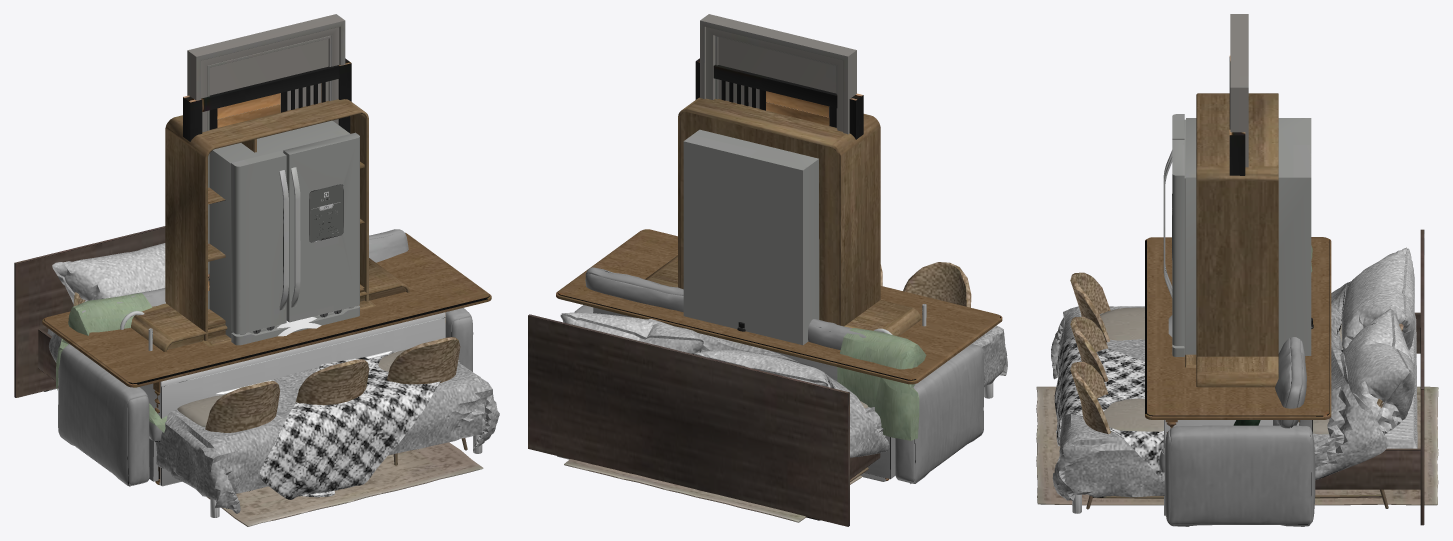
Rendered from furniture.glb.
The picture shows the model from 3 angles, left to right: view 1: azimuth 30°, elevation 25°; view 2: azimuth 150°, elevation 25°; view 3: azimuth 270°, elevation 25°; orthographic projection. The views are drawn at different scales.
Visible parts, largest first — view 1: bed, fridge, dining, sofa, bookshelf, doorint, tubalcove, rug, doorfront, dresser; view 2: bed, fridge, sofa, bookshelf, dining, doorint, doorfront, dresser, rug; view 3: bed, dining, bookshelf, sofa, fridge, rug, dresser, doorint, doorfront, tubalcove.
Boxes of the visible parts, x1=… form: bed: x1=14, y1=226, x2=499, y2=517; fridge: x1=209, y1=120, x2=359, y2=345; dining: x1=42, y1=232, x2=491, y2=484; sofa: x1=56, y1=229, x2=473, y2=486; bookshelf: x1=165, y1=99, x2=368, y2=340; doorint: x1=187, y1=14, x2=345, y2=309; tubalcove: x1=120, y1=311, x2=445, y2=486; rug: x1=58, y1=388, x2=483, y2=526; doorfront: x1=183, y1=58, x2=351, y2=290; dresser: x1=131, y1=258, x2=409, y2=351; bed: x1=528, y1=312, x2=1007, y2=526; fridge: x1=683, y1=129, x2=819, y2=345; sofa: x1=574, y1=267, x2=983, y2=483; bookshelf: x1=678, y1=97, x2=880, y2=326; dining: x1=556, y1=229, x2=1002, y2=482; doorint: x1=700, y1=14, x2=856, y2=134; doorfront: x1=695, y1=58, x2=863, y2=139; dresser: x1=645, y1=255, x2=921, y2=336; rug: x1=564, y1=459, x2=862, y2=522; bed: x1=1051, y1=229, x2=1424, y2=525; dining: x1=1070, y1=237, x2=1403, y2=509; bookshelf: x1=1196, y1=93, x2=1278, y2=356; sofa: x1=1159, y1=245, x2=1315, y2=526; fridge: x1=1163, y1=114, x2=1311, y2=356; rug: x1=1036, y1=386, x2=1438, y2=505; dresser: x1=1196, y1=356, x2=1278, y2=387; doorint: x1=1230, y1=14, x2=1248, y2=167; doorfront: x1=1229, y1=56, x2=1245, y2=175; tubalcove: x1=1164, y1=420, x2=1299, y2=515.
Bounding box in the file's own units: 2.44 × 2.5 × 2.3.
Materials: 26 (26 with a texture image).
